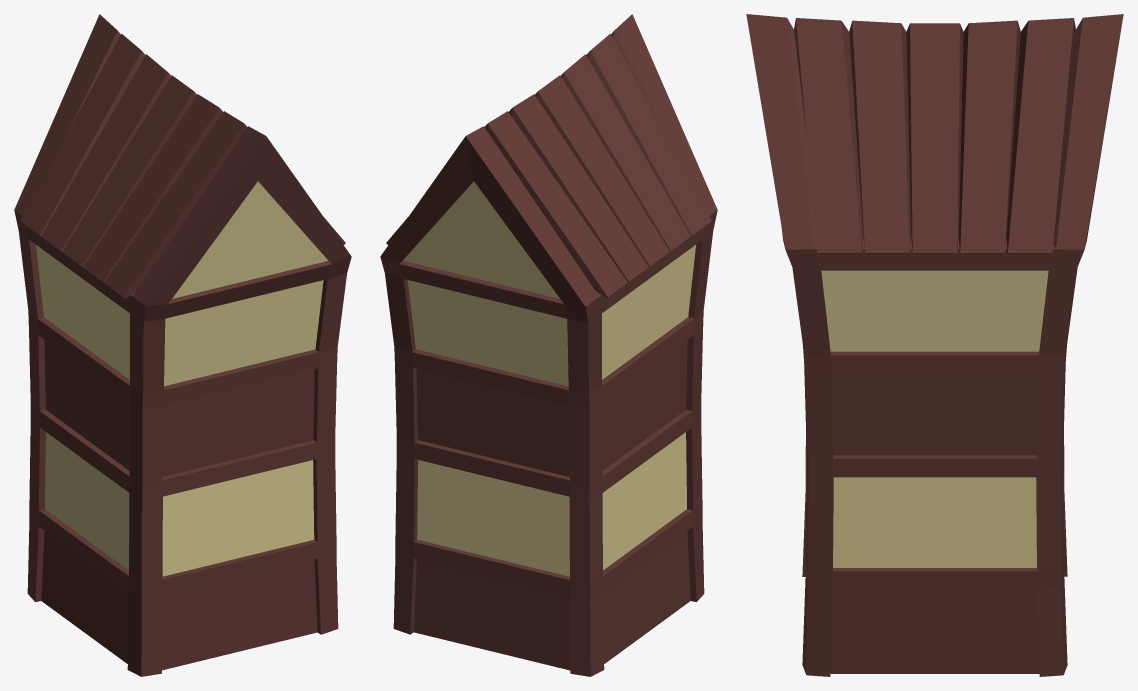
Rendered from GEO_tower_2.fbx.
3 renders of one model, left to right at view 1: azimuth 30°, elevation 25°; view 2: azimuth 150°, elevation 25°; view 3: azimuth 270°, elevation 25°, orthographic. The views are drawn at different scales.
Parts seen in each view (by area): view 1: GEO_tower_2, GEO_roof_wood; view 2: GEO_tower_2, GEO_roof_wood; view 3: GEO_tower_2, GEO_roof_wood.
Part boxes in pixels (x1,y1,x2,y2): GEO_tower_2: (14, 14, 351, 676); GEO_roof_wood: (20, 33, 345, 298); GEO_tower_2: (380, 14, 717, 676); GEO_roof_wood: (386, 33, 711, 298); GEO_tower_2: (746, 14, 1123, 676); GEO_roof_wood: (794, 18, 1075, 254).
Size of the model in its own units: 367 by 846 by 477.
